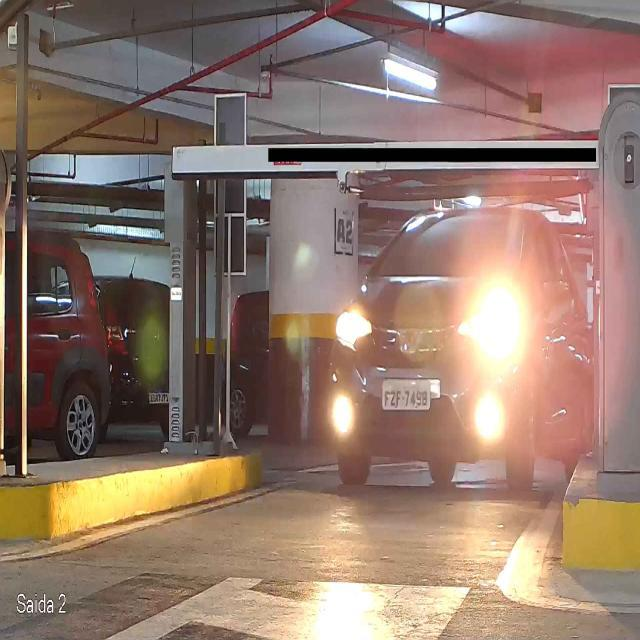old_plate: (381, 379, 432, 412)
